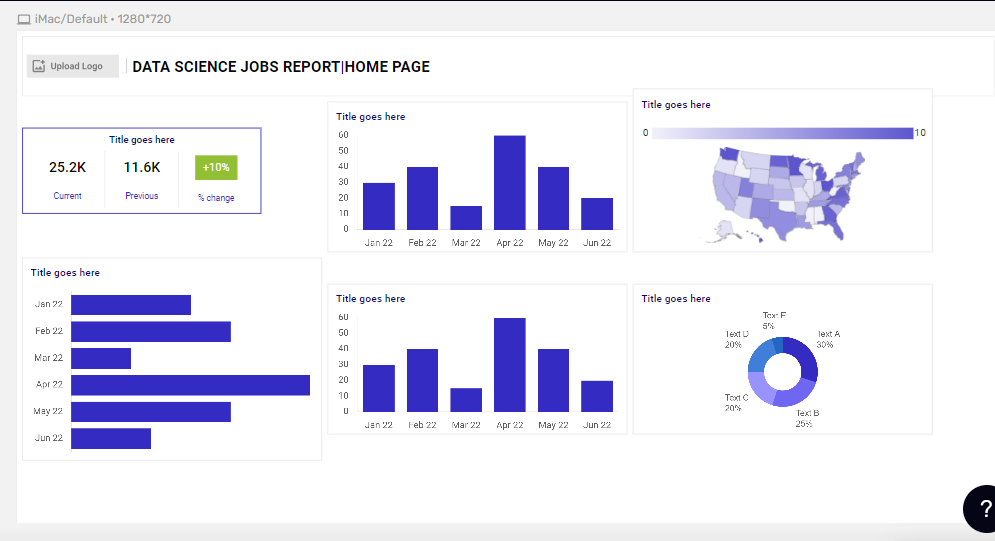

This screenshot's page, from the dashboard's own definition file:
{"tool":"powerbi","page":{"name":"HOME PAGE","canvas":[1280,720],"ordinal":0},"visuals":[{"type":"shape","box":[12.1,10.6,1254.5,83.3],"z":0},{"type":"textbox","box":[33.3,19.7,683.3,65.2],"z":1000},{"type":"shape","box":[12.1,200,425.8,507.6],"z":2000},{"type":"shape","box":[454.5,115.2,403,297],"z":3000},{"type":"shape","box":[863.6,115.2,403,297],"z":4000},{"type":"shape","box":[454.5,422.7,403,284.8],"z":5000},{"type":"shape","box":[863.6,422.7,403,284.8],"z":6000},{"type":"cardVisual","fields":{"Data":["Data_Science_Jobss.Maximum Salary (K)","Data_Science_Jobss.Minimum Salary (K)","Data_Science_Jobss.Average Salary"]},"box":[12.1,104.5,425.8,90.9],"z":7000},{"type":"barChart","title":"Top 10 Sectors With Highest Salaries","fields":{"Y":["Data_Science_Jobss.Maximum Salary (K)"],"Category":["Data_Science_Jobss.Sector"]},"box":[19.7,218.2,410.6,471.2],"z":8000},{"type":"columnChart","title":"Top 5 Job Titles With  Highest Salaries","fields":{"Y":["Data_Science_Jobss.Maximum Salary (K)"],"Category":["Data_Science_Jobss.Job_Title"]},"box":[472.7,125.8,366.7,274.2],"z":9000},{"type":"columnChart","title":"Bottom 5 Job Titles With Lowest Salaries","fields":{"Category":["Data_Science_Jobss.Job_Title"],"Y":["Data_Science_Jobss.Minimum Salary (K)"]},"box":[472.7,427.3,366.7,274.2],"z":10000},{"type":"map","title":"Average Salaries(K) by Location and Job_State","fields":{"Series":["Data_Science_Jobss.Location"],"Category":["Data_Science_Jobss.Job_State"],"Size":["Data_Science_Jobss.Average Salary(K)"]},"box":[874.2,127.3,380.3,272.7],"z":11000},{"type":"donutChart","title":"Top 5 Rated Industries","fields":{"Category":["Data_Science_Jobss.Industry"],"Y":["Avg(Data_Science_Jobss.Rating)"]},"box":[880.3,442.4,369.7,247],"z":12000},{"type":"slicer","fields":{"Values":["Data_Science_Jobss.Type_Of_Ownership"]},"box":[795.1,19.8,192.8,65.2],"z":12001},{"type":"slicer","fields":{"Values":["Data_Science_Jobss.Size"]},"box":[1031.8,19.8,192.8,65.2],"z":12002},{"type":"textbox","box":[690.2,36.9,75.1,31.2],"z":12003}]}

Visuals, with their boxes on the page's 1280x720 design canvas (x1, y1, x2, y2). These are canvas units, not pixel positions in the 995x541 screenshot, which may show the page scaled, cropped or inside an application window:
shape: <region>12, 11, 1267, 94</region>
textbox: <region>33, 20, 717, 85</region>
shape: <region>12, 200, 438, 708</region>
shape: <region>454, 115, 858, 412</region>
shape: <region>864, 115, 1267, 412</region>
shape: <region>454, 423, 858, 708</region>
shape: <region>864, 423, 1267, 708</region>
cardVisual - Data_Science_Jobss.Maximum Salary (K) x Data_Science_Jobss.Minimum Salary (K): <region>12, 104, 438, 195</region>
"Top 10 Sectors With Highest Salaries" barChart: <region>20, 218, 430, 689</region>
"Top 5 Job Titles With  Highest Salaries" columnChart: <region>473, 126, 839, 400</region>
"Bottom 5 Job Titles With Lowest Salaries" columnChart: <region>473, 427, 839, 702</region>
"Average Salaries(K) by Location and Job_State" map: <region>874, 127, 1254, 400</region>
"Top 5 Rated Industries" donutChart: <region>880, 442, 1250, 689</region>
slicer - Data_Science_Jobss.Type_Of_Ownership: <region>795, 20, 988, 85</region>
slicer - Data_Science_Jobss.Size: <region>1032, 20, 1225, 85</region>
textbox: <region>690, 37, 765, 68</region>
